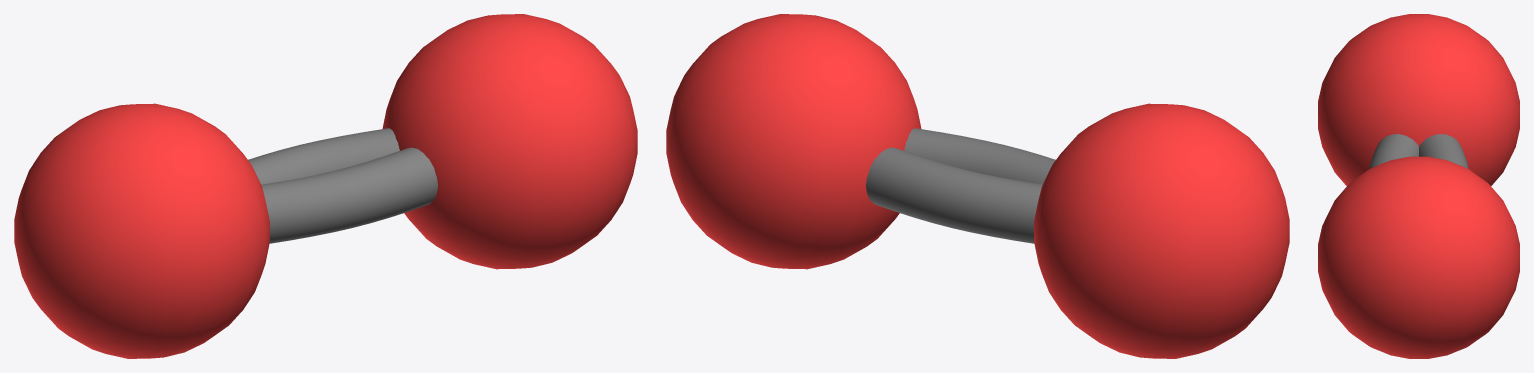
The model's file is 08_O2_BaS.fbx.
3 views of the same model, side by side, from view 1: azimuth 30°, elevation 25°; view 2: azimuth 150°, elevation 25°; view 3: azimuth 270°, elevation 25° (orthographic). The views are drawn at different scales.
Parts seen in each view (by area): view 1: O.002, O.001, Bond.001.003; view 2: O.002, O.001, Bond.001.003; view 3: O.001, O.002, Bond.001.003.
Boxes of the visible parts, bbox=[...] form: O.002: bbox=[14, 103, 269, 358]; O.001: bbox=[382, 14, 637, 269]; Bond.001.003: bbox=[248, 128, 437, 243]; O.002: bbox=[1034, 103, 1289, 358]; O.001: bbox=[666, 14, 921, 269]; Bond.001.003: bbox=[866, 128, 1055, 243]; O.001: bbox=[1318, 156, 1519, 358]; O.002: bbox=[1318, 14, 1519, 185]; Bond.001.003: bbox=[1369, 134, 1468, 168].
Size of the model in its own units: 193 by 72.26 by 72.26.
